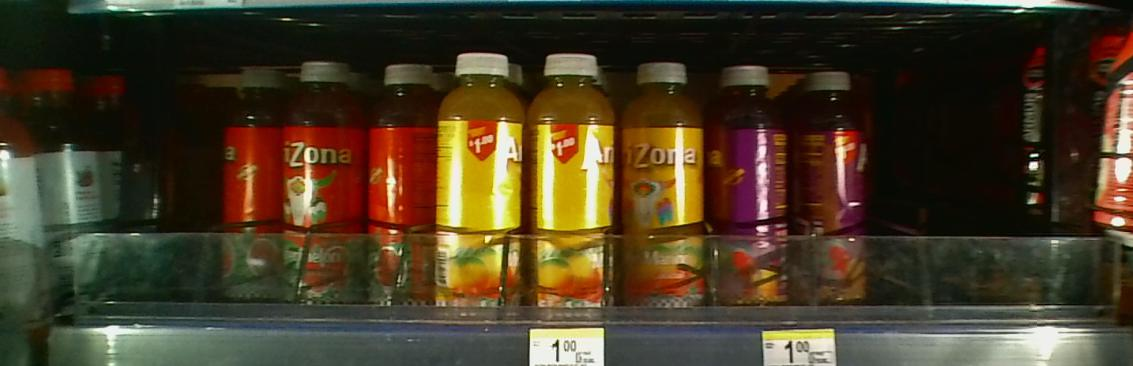bottle: (524, 57, 619, 319), (787, 63, 885, 307), (434, 54, 526, 311), (618, 54, 706, 309), (705, 53, 792, 310), (287, 53, 367, 308), (212, 54, 286, 303), (369, 53, 435, 310)
